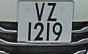1: (25, 21, 34, 43), (44, 21, 52, 42)
2: (32, 21, 46, 43)
9: (51, 21, 64, 43)
V: (34, 2, 46, 23)
Z: (44, 1, 60, 24)
